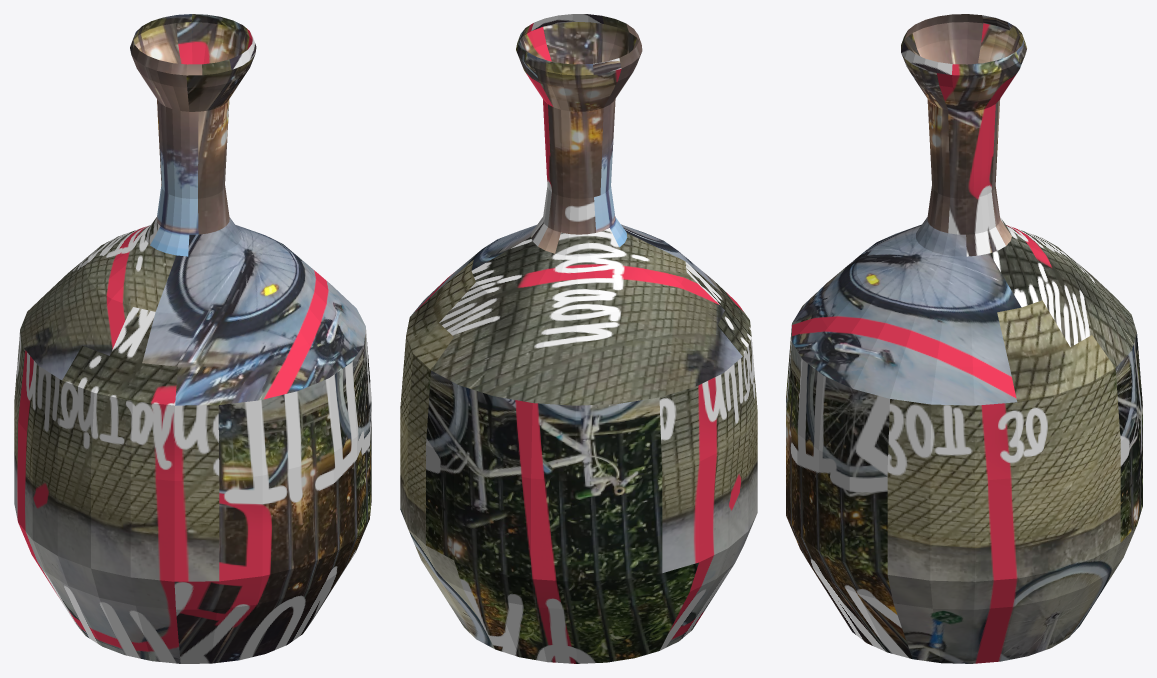
3 views of the same model, side by side, from view 1: azimuth 30°, elevation 25°; view 2: azimuth 150°, elevation 25°; view 3: azimuth 270°, elevation 25° (orthographic).
Parts seen in each view (by area): view 1: Circle; view 2: Circle; view 3: Circle.
Part boxes in pixels (box(x1,y1,x2,y2)): Circle: box(14, 14, 371, 663); Circle: box(400, 14, 757, 663); Circle: box(786, 14, 1142, 663).
Bounding box in the file's own units: 2.98 × 5.28 × 2.97.
Materials: 1 (1 with a texture image).
